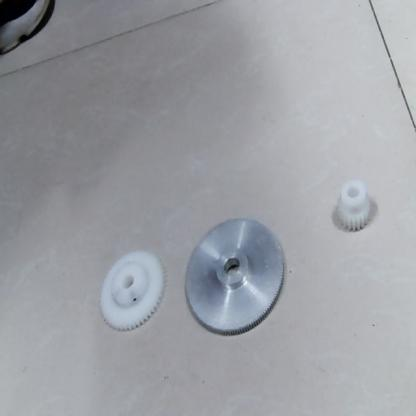FOD: (180, 216, 286, 337), (98, 241, 166, 336), (325, 179, 378, 234)
